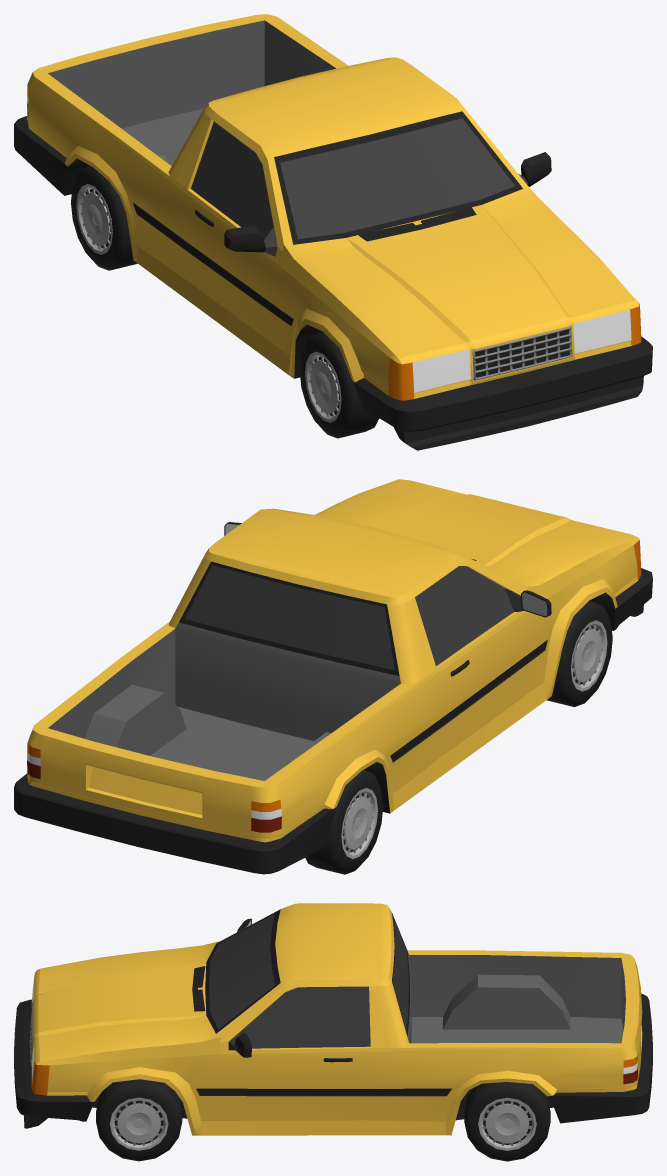
Rendered from pickup_yellow.fbx.
3 renders of one model, top to bottom at view 1: azimuth 30°, elevation 25°; view 2: azimuth 150°, elevation 25°; view 3: azimuth 270°, elevation 25°, orthographic. The views are drawn at different scales.
Parts seen in each view (by area): view 1: 5.001, w5.004, w5.007; view 2: 5.001, w5.007, w5.004; view 3: 5.001, w5.005, w5.006.
Boxes of the visible parts, bbox=[...] form: 5.001: bbox=[14, 14, 652, 450]; w5.004: bbox=[299, 332, 379, 438]; w5.007: bbox=[71, 166, 137, 270]; 5.001: bbox=[14, 479, 652, 874]; w5.007: bbox=[305, 769, 383, 874]; w5.004: bbox=[547, 601, 612, 706]; 5.001: bbox=[14, 903, 652, 1135]; w5.005: bbox=[96, 1079, 182, 1161]; w5.006: bbox=[464, 1082, 550, 1161].
Size of the model in its own units: 213 by 134 by 451.
